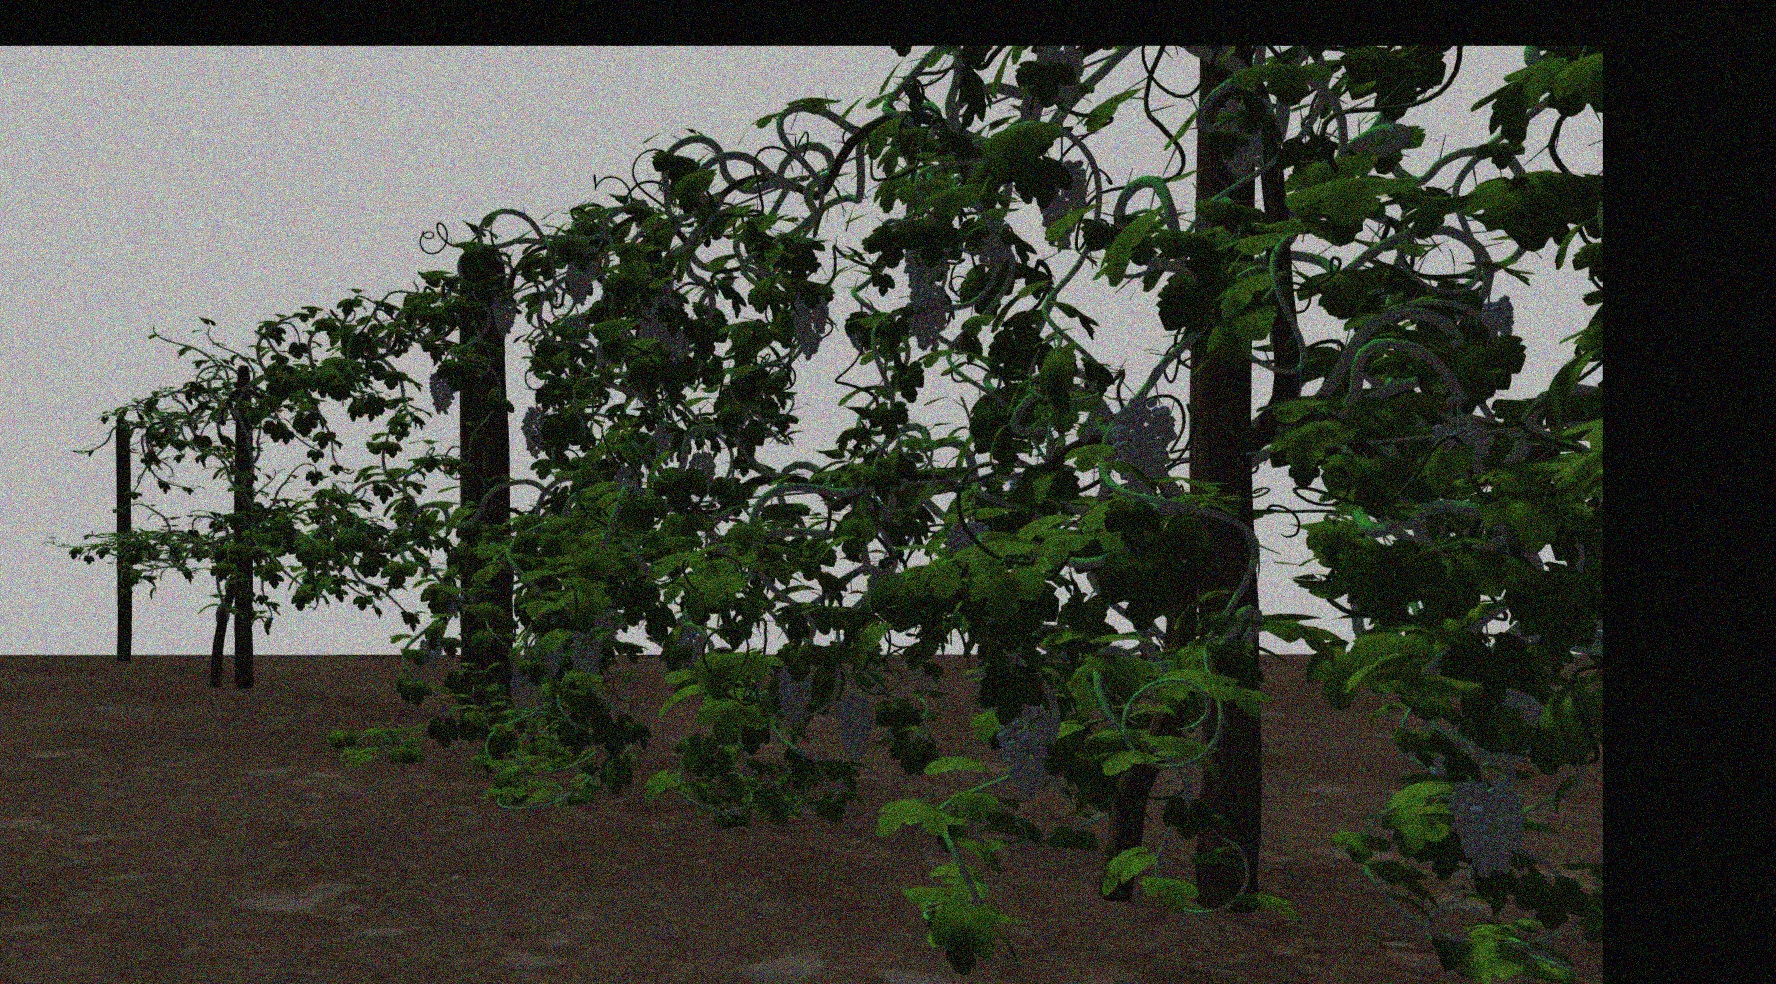grape: (1446, 780, 1526, 879), (1110, 395, 1176, 492), (996, 705, 1053, 799), (1216, 98, 1271, 181), (638, 297, 687, 362), (1035, 46, 1083, 108), (906, 281, 947, 351), (835, 694, 873, 766), (791, 287, 830, 357), (777, 663, 814, 725), (562, 244, 600, 304), (903, 241, 940, 288), (1041, 196, 1071, 253), (571, 627, 603, 679), (521, 404, 548, 458), (1061, 158, 1087, 214), (678, 623, 707, 668), (489, 294, 517, 338), (687, 450, 716, 491), (429, 368, 454, 414), (508, 670, 535, 710), (534, 641, 565, 676), (418, 636, 443, 668)
